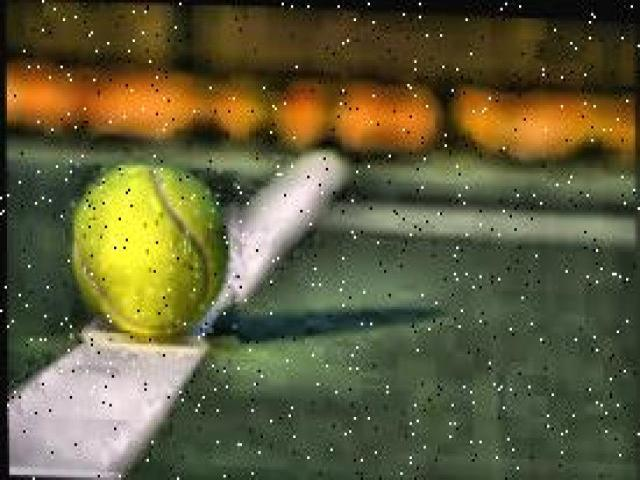tennis-ball: (66, 164, 232, 346)
